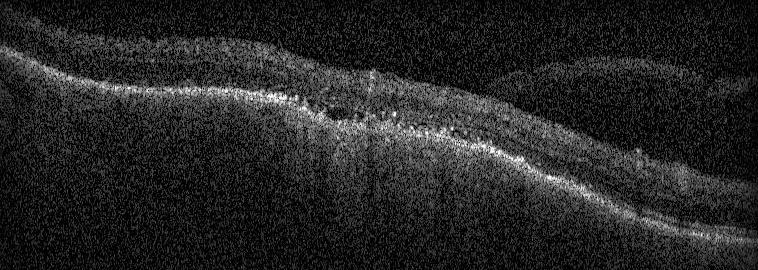vitreomacular_traction: (481, 55, 756, 110)
